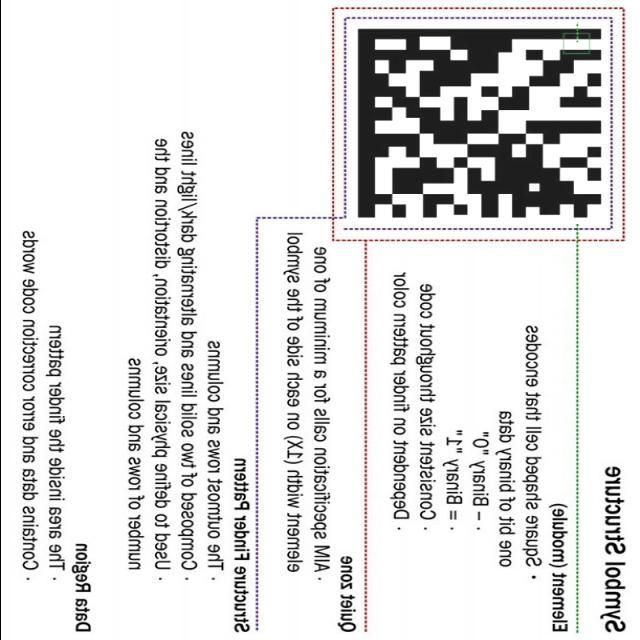Data-Matrix: (350, 22, 607, 224)
